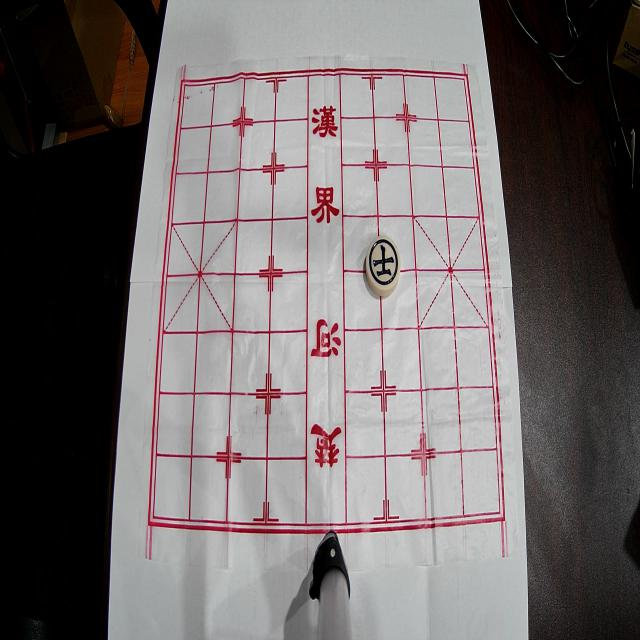black-guard: (366, 236, 400, 296)
